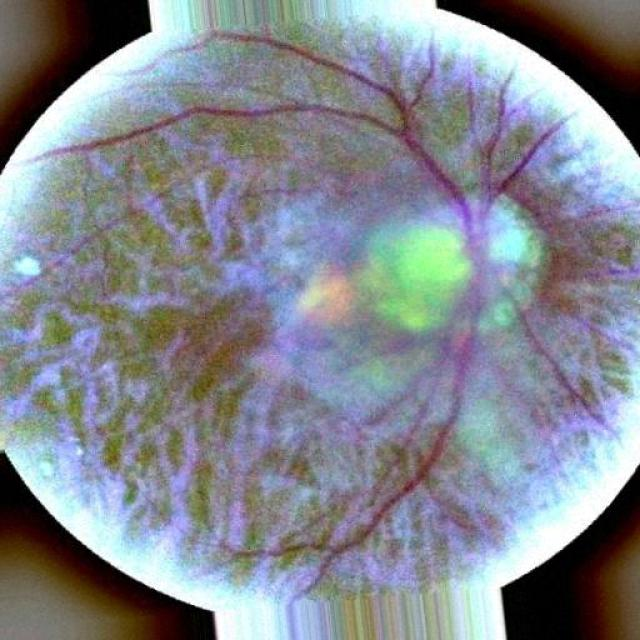Nerves: (60, 42, 559, 248), (228, 282, 472, 565)
Optic Disk: (403, 188, 552, 337)
